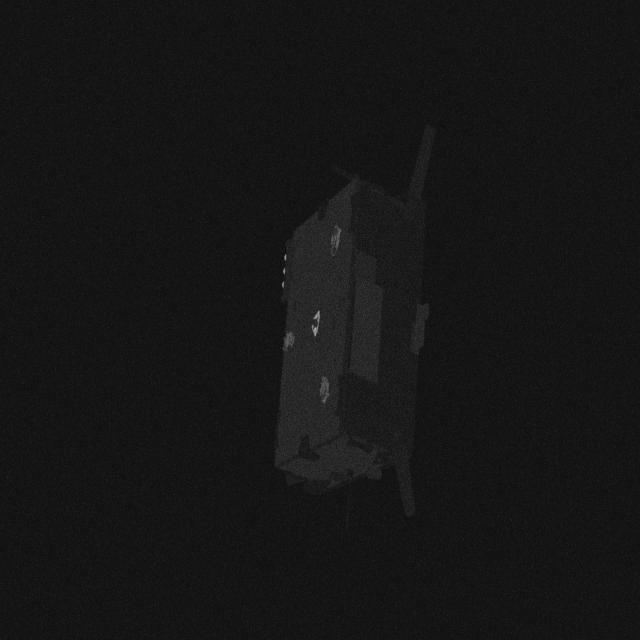medium_debris: (264, 128, 456, 520)
